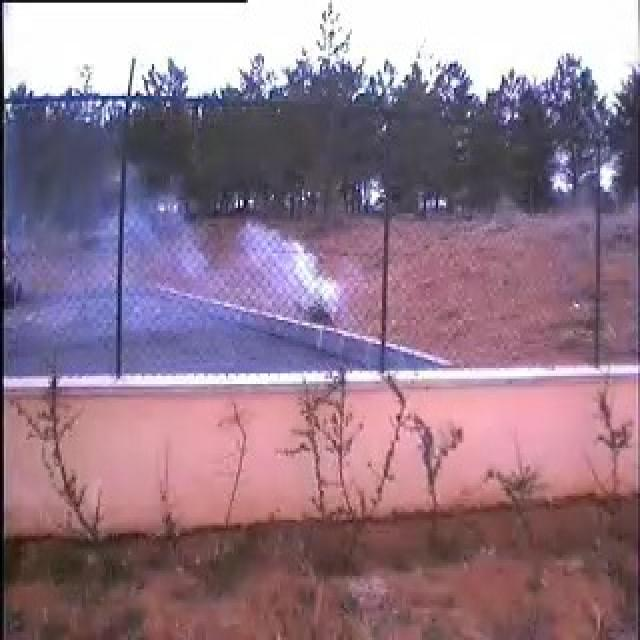smoke: (55, 166, 351, 372)
